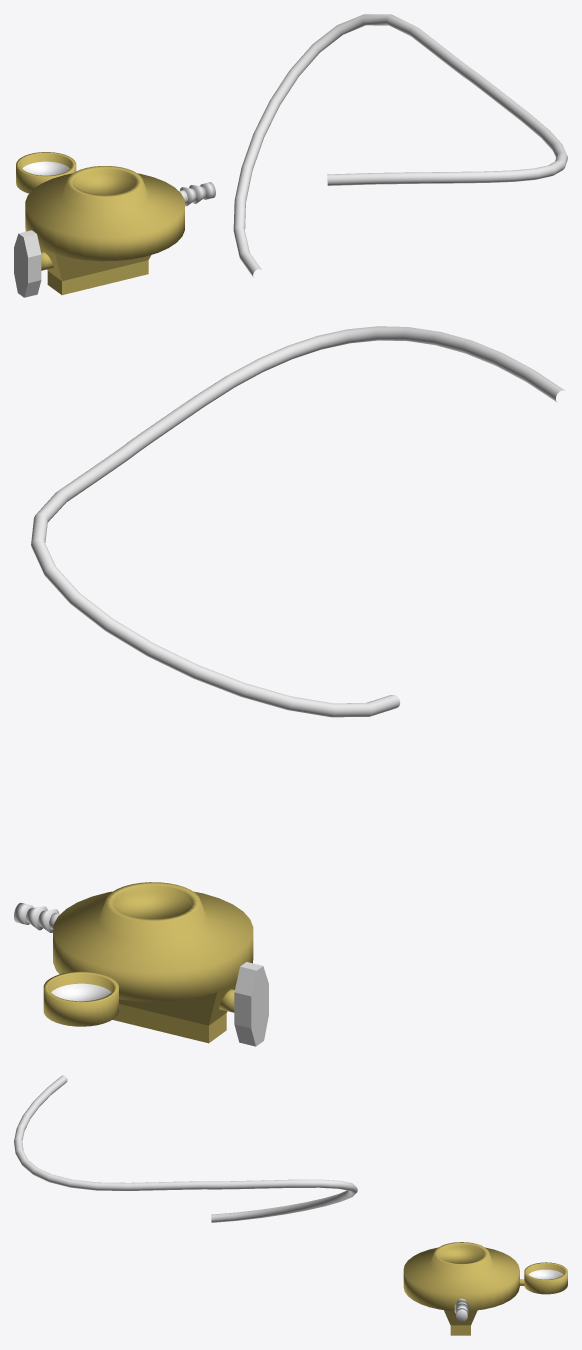
Rendered from selang.glb.
3 views of the same model, one above another, from view 1: azimuth 30°, elevation 25°; view 2: azimuth 150°, elevation 25°; view 3: azimuth 270°, elevation 25° (orthographic). The views are drawn at different scales.
Parts seen in each view (by area): view 1: Cube.004, BezierCurve; view 2: Cube.004, BezierCurve; view 3: Cube.004, BezierCurve.
Part boxes in pixels (bbox=[...]): Cube.004: bbox=[14, 152, 215, 297]; BezierCurve: bbox=[233, 14, 567, 277]; Cube.004: bbox=[14, 882, 268, 1046]; BezierCurve: bbox=[31, 326, 565, 717]; Cube.004: bbox=[403, 1242, 567, 1335]; BezierCurve: bbox=[14, 1075, 357, 1222].
Size of the model in its own units: 3.29 by 3.54 by 7.74.
